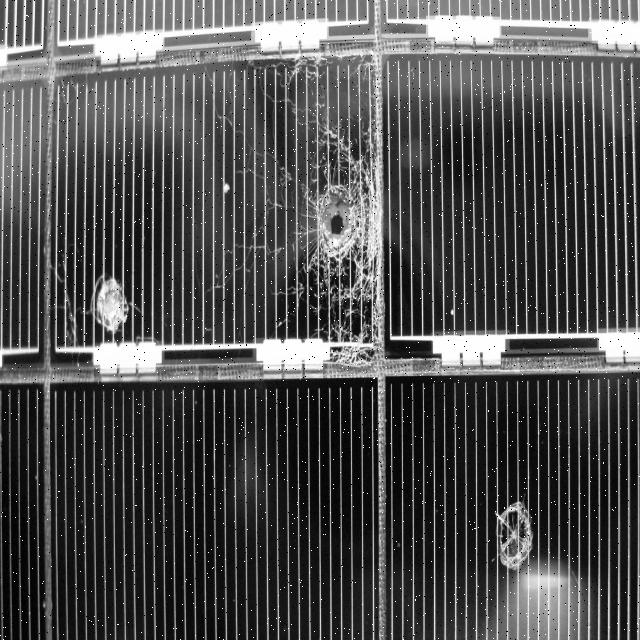electrical damage: (248, 50, 380, 352)
